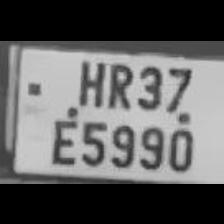0: (164, 119, 196, 171)
3: (134, 58, 162, 110)
5: (76, 114, 106, 166)
7: (162, 60, 194, 116)
9: (135, 120, 164, 170), (107, 118, 135, 168)
E: (46, 111, 78, 165)
H: (71, 53, 105, 107)
R: (104, 55, 134, 109)
